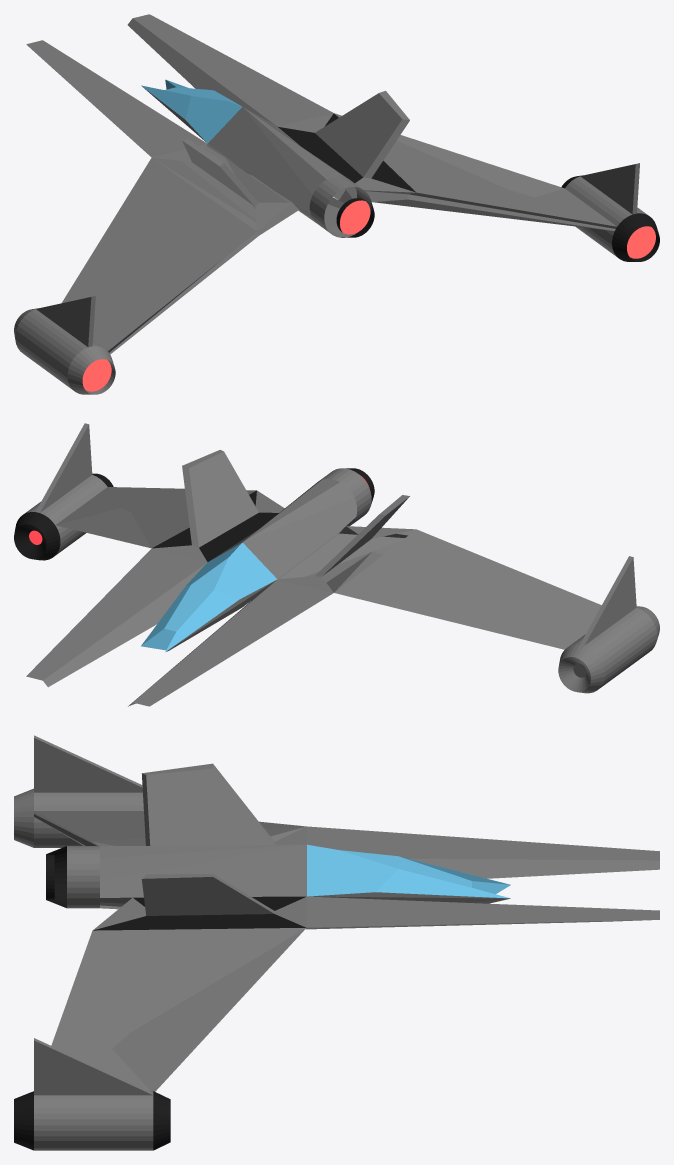
The model's file is Ship_MockUp.fbx.
The picture shows the model from 3 angles, top to bottom: view 1: azimuth 30°, elevation 25°; view 2: azimuth 150°, elevation 25°; view 3: azimuth 270°, elevation 25°; orthographic projection. The views are drawn at different scales.
Parts seen in each view (by area): view 1: Cylinder.002; view 2: Cylinder.002; view 3: Cylinder.002.
Part boxes in pixels (x1,y1,x2,y2): Cylinder.002: (14, 14, 659, 394); Cylinder.002: (14, 423, 659, 706); Cylinder.002: (14, 735, 659, 1150).
Bounding box in the file's own units: 12996 × 3260 × 10826.
